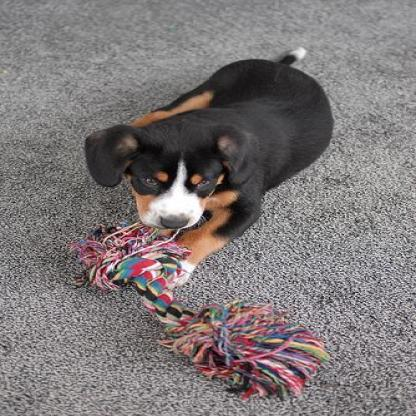EntleBucher: (82, 46, 330, 288)
